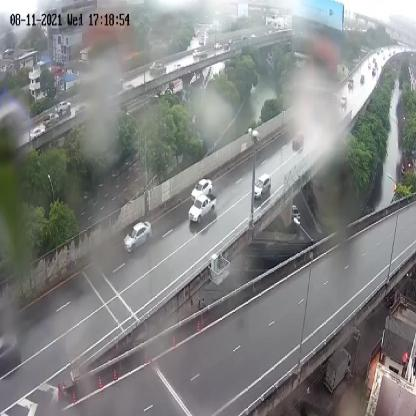car: (186, 193, 216, 229), (124, 218, 152, 256), (251, 172, 273, 204), (190, 178, 214, 205)
